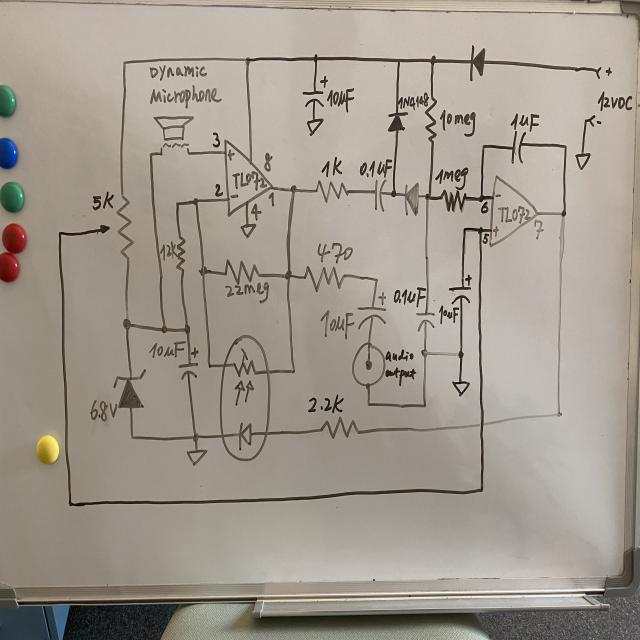capacitor: (354, 292, 388, 331), (177, 345, 202, 382), (302, 75, 328, 108), (448, 274, 472, 306), (510, 128, 528, 166), (372, 178, 386, 212), (415, 311, 436, 333)
crossover: (478, 420, 486, 429)
diode: (112, 367, 148, 414), (468, 44, 486, 82), (404, 180, 419, 217), (386, 110, 408, 134)
ground: (185, 447, 208, 467), (450, 379, 471, 398), (305, 117, 324, 137), (574, 151, 592, 170), (239, 221, 256, 239)
junction: (121, 316, 132, 332), (197, 265, 209, 277), (55, 227, 66, 240), (428, 54, 438, 66), (288, 183, 298, 195), (283, 269, 293, 281), (183, 323, 191, 335), (289, 365, 297, 377), (390, 187, 398, 199), (420, 348, 429, 358), (424, 191, 432, 202), (192, 196, 200, 207), (461, 224, 469, 235), (312, 53, 320, 63), (560, 208, 568, 218), (480, 142, 488, 152), (244, 55, 252, 65), (160, 324, 168, 334), (372, 274, 380, 284), (420, 400, 428, 410), (191, 431, 199, 441), (555, 409, 563, 419), (478, 484, 485, 495), (456, 350, 464, 359), (67, 499, 74, 509), (395, 56, 402, 66), (478, 194, 485, 204), (206, 361, 213, 370), (174, 199, 181, 208), (365, 399, 372, 408), (129, 432, 136, 441), (121, 58, 128, 67), (477, 226, 484, 235), (562, 142, 568, 152), (148, 150, 153, 160), (584, 118, 587, 123)
resistor: (95, 194, 135, 262), (302, 263, 346, 294), (222, 257, 262, 285), (314, 178, 350, 204), (319, 416, 361, 438), (423, 98, 439, 146), (440, 187, 467, 213), (174, 234, 187, 275)
terminal: (351, 342, 386, 388), (588, 114, 596, 127), (595, 66, 602, 80)
text: (149, 81, 221, 107), (319, 308, 354, 341), (147, 64, 210, 82), (434, 163, 473, 191), (439, 109, 476, 137), (146, 338, 187, 363), (224, 282, 270, 304), (316, 240, 354, 264), (326, 86, 355, 114), (232, 170, 268, 192), (306, 394, 345, 414), (597, 91, 634, 112), (358, 157, 392, 179), (89, 398, 118, 423), (392, 287, 425, 307), (497, 205, 531, 224), (509, 111, 540, 131), (385, 366, 416, 386), (90, 188, 114, 212), (398, 92, 430, 110), (320, 155, 342, 178), (438, 304, 459, 326), (384, 348, 414, 362), (160, 240, 176, 260), (533, 219, 544, 241), (263, 151, 273, 173), (250, 202, 262, 220), (211, 130, 221, 148), (479, 199, 490, 214), (603, 65, 613, 78), (214, 183, 223, 197), (268, 192, 275, 206), (228, 148, 235, 161), (493, 225, 499, 238), (482, 233, 489, 244), (229, 193, 240, 200), (494, 192, 502, 200), (596, 119, 602, 126)
